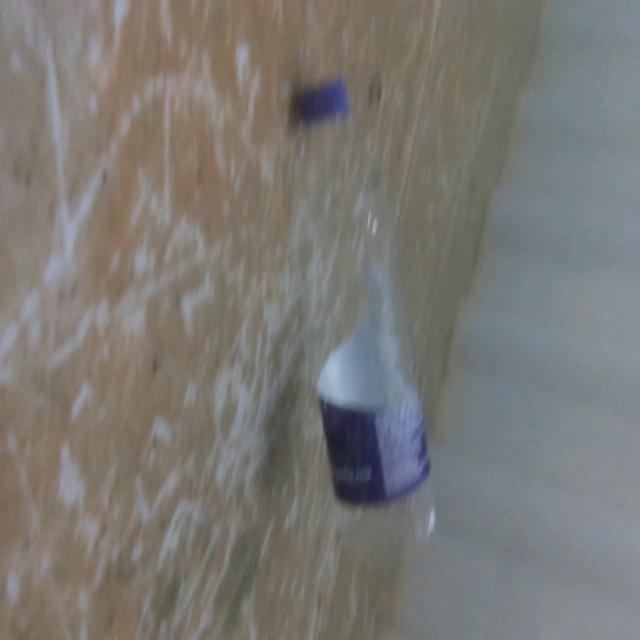plastic bottle: (276, 61, 449, 543)
